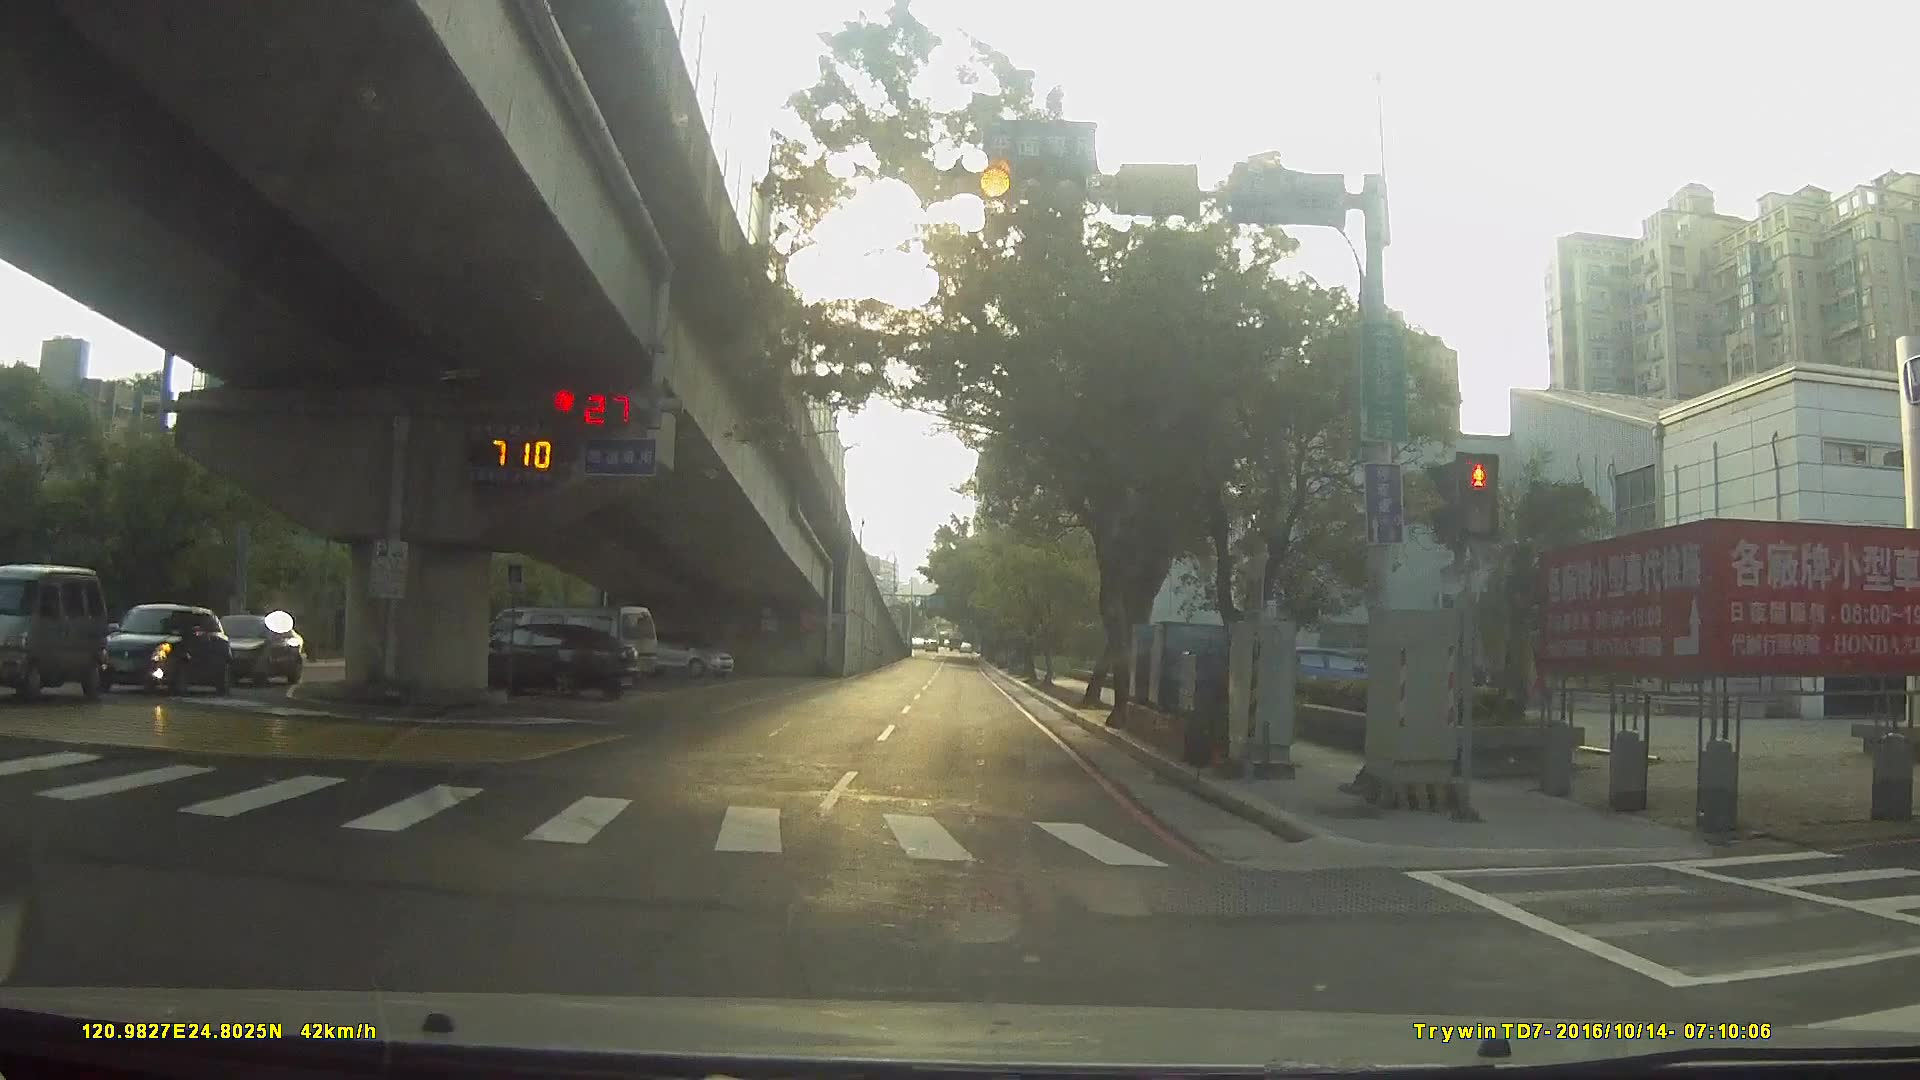vehicle: (1, 553, 116, 699), (472, 603, 655, 688), (447, 618, 636, 700), (84, 597, 225, 698), (186, 604, 313, 680), (626, 629, 735, 678)
